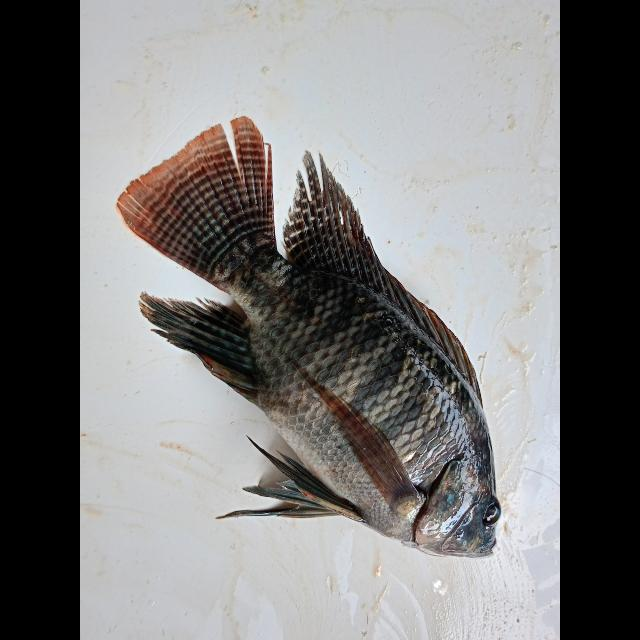Tilapia: (115, 118, 503, 560)
